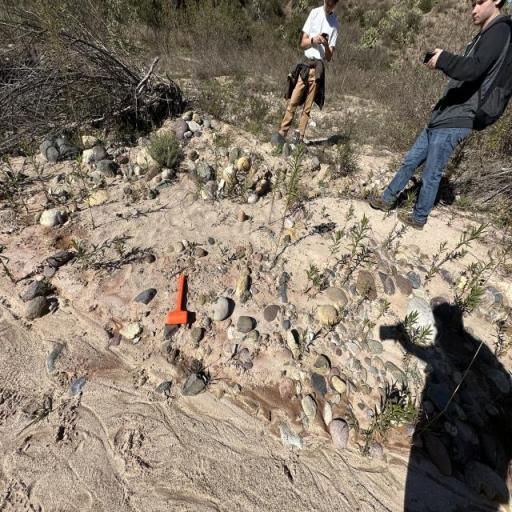mallet: (168, 274, 188, 325)
